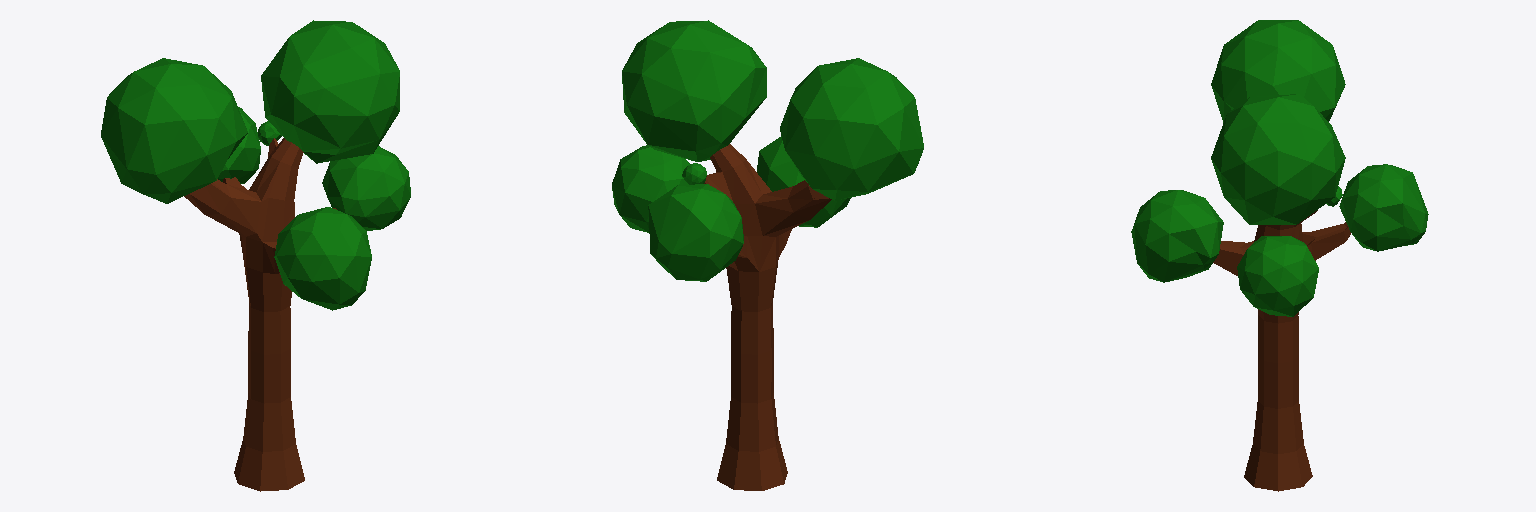
robot.urdf — pinusbruita:
<?xml version="1.0" ?>
<robot name="pinusbruita">
  <link name="baseLink">
    <inertial>
      <mass value="0.0"/>
      <inertia ixx="0" ixy="0" ixz="0" iyy="0" iyz="0" izz="0"/>
    </inertial>
    <visual>
      <origin rpy="0 0 0" xyz="0 0 0"/>
      <geometry>
        <mesh filename="trunk.obj" scale="1 1 1"/>
      </geometry>
      <material name="brown">
        <color rgba="0.4 0.2 0.1 1.0"/>
      </material>
    </visual>
  </link>

  <link name="leafLink">
    <inertial>
      <mass value="0.0"/>
      <inertia ixx="0" ixy="0" ixz="0" iyy="0" iyz="0" izz="0"/>
    </inertial>
    <visual>
      <origin rpy="0 0 0" xyz="0 0 0"/>
      <geometry>
        <mesh filename="leaves.obj" scale="1 1 1"/>
      </geometry>
      <material name="green">
        <color rgba="0.1 0.5 0.1 1.0"/>
      </material>
    </visual>
  </link>

  <joint name="trunk_to_leaves" type="fixed">
    <parent link="baseLink"/>
    <child link="leafLink"/>
    <origin xyz="0 0 0"/>
  </joint>
</robot>

--- Facts derived from the render (not from the file) ---
The picture shows the robot from 3 angles, left to right: view 1: azimuth 30°, elevation 25°; view 2: azimuth 150°, elevation 25°; view 3: azimuth 270°, elevation 25°; orthographic projection.
Robot: pinusbruita — 2 links, 1 joints (1 fixed); root link baseLink; default pose: all joints at 0.
Visible links, largest first — view 1: leafLink, baseLink; view 2: leafLink, baseLink; view 3: leafLink, baseLink.
Boxes of the visible links, x1=… form: leafLink: x1=101, y1=20, x2=410, y2=310; baseLink: x1=184, y1=138, x2=336, y2=491; leafLink: x1=612, y1=20, x2=923, y2=281; baseLink: x1=704, y1=144, x2=831, y2=490; leafLink: x1=1131, y1=20, x2=1428, y2=316; baseLink: x1=1213, y1=210, x2=1350, y2=491.
Size in the robot's own frame: 10.29 by 9.62 by 14.58 metres.
Meshes: 2 distinct files referenced, 2 mesh visuals loaded (2 OBJ).
